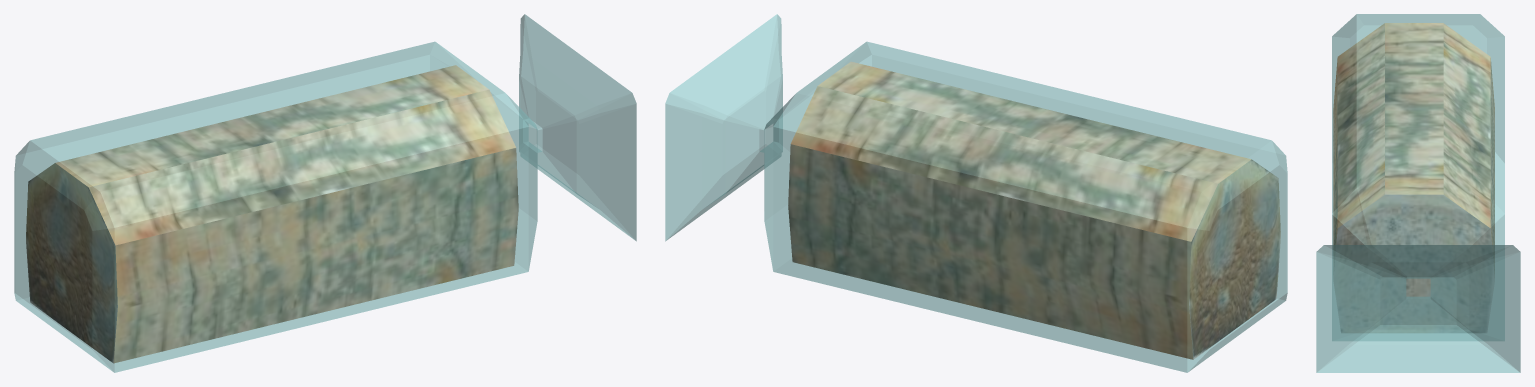
The model's file is moldy_bread.FBX.
3 views of the same model, side by side, from view 1: azimuth 30°, elevation 25°; view 2: azimuth 150°, elevation 25°; view 3: azimuth 270°, elevation 25° (orthographic). The views are drawn at different scales.
Parts seen in each view (by area): view 1: moldy_bread_loaf; view 2: moldy_bread_loaf; view 3: moldy_bread_loaf.
Part boxes in pixels (x1,y1,x2,y2): moldy_bread_loaf: [14, 14, 636, 372]; moldy_bread_loaf: [665, 14, 1287, 372]; moldy_bread_loaf: [1316, 14, 1520, 372].
Bounding box in the file's own units: 35.9 × 11.15 × 13.76.
